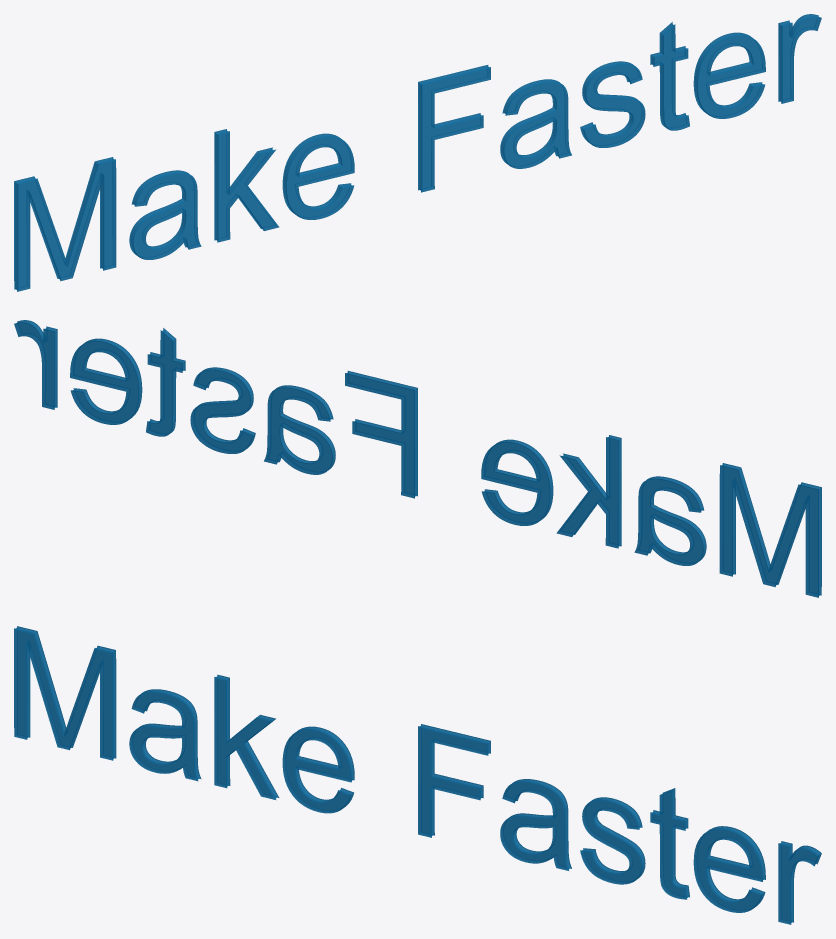
The model's file is make_faster 1.FBX.
3 views of the same model, one above another, from view 1: azimuth 30°, elevation 25°; view 2: azimuth 150°, elevation 25°; view 3: azimuth 330°, elevation 25° (orthographic).
Parts seen in each view (by area): view 1: make_faster; view 2: make_faster; view 3: make_faster.
Boxes of the visible parts, x1=… form: make_faster: x1=14, y1=14, x2=821, y2=291; make_faster: x1=14, y1=320, x2=821, y2=597; make_faster: x1=14, y1=626, x2=821, y2=924.
Bounding box in the file's own units: 31.09 × 4.09 × 0.2294.
